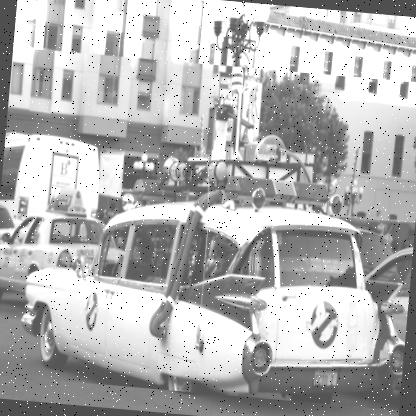Car: (0, 47, 415, 412)
